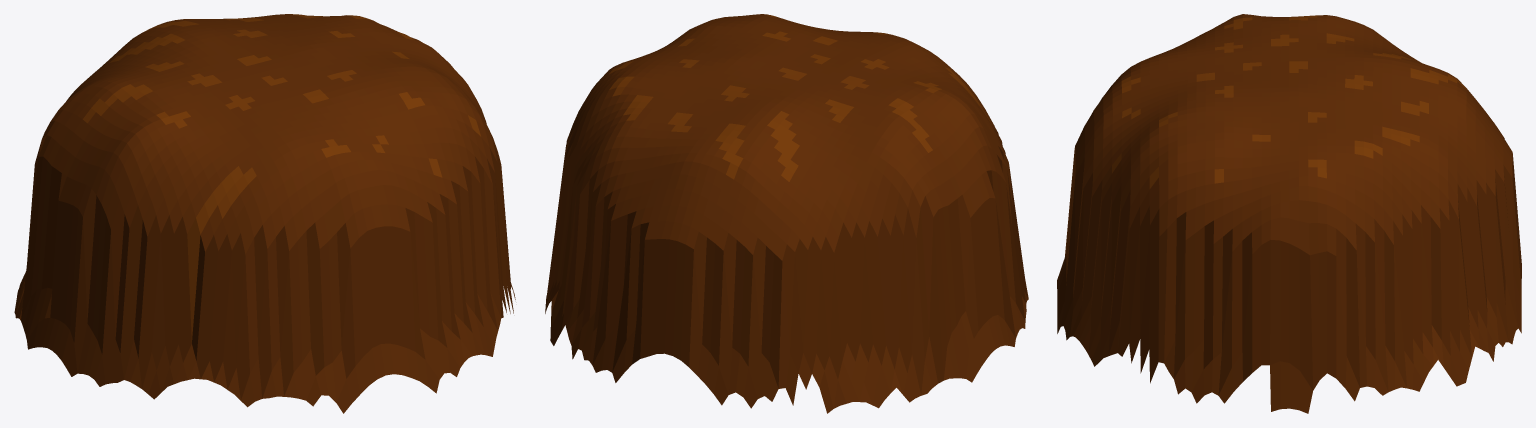
The model's file is zoneFood.fbx.
3 views of the same model, side by side, from view 1: azimuth 30°, elevation 25°; view 2: azimuth 150°, elevation 25°; view 3: azimuth 270°, elevation 25° (orthographic). The views are drawn at different scales.
Visible parts, largest first — view 1: Plane; view 2: Plane; view 3: Plane.
Boxes of the visible parts, <box> form: Plane: <box>14,14,515,413</box>; Plane: <box>545,14,1028,413</box>; Plane: <box>1057,14,1521,413</box>.
Bounding box in the file's own units: 7733 × 4392 × 7580.
